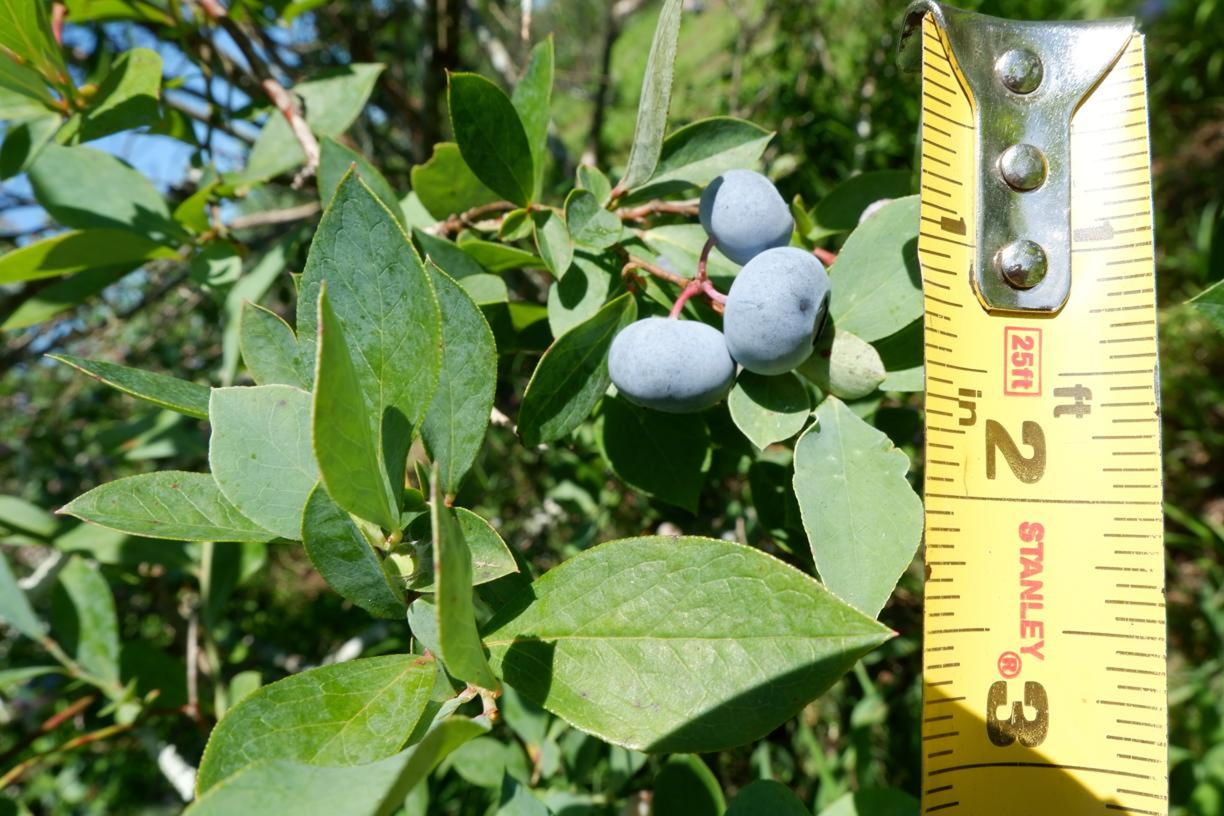Mature: (721, 244, 831, 374), (607, 316, 737, 415), (695, 169, 794, 265)
